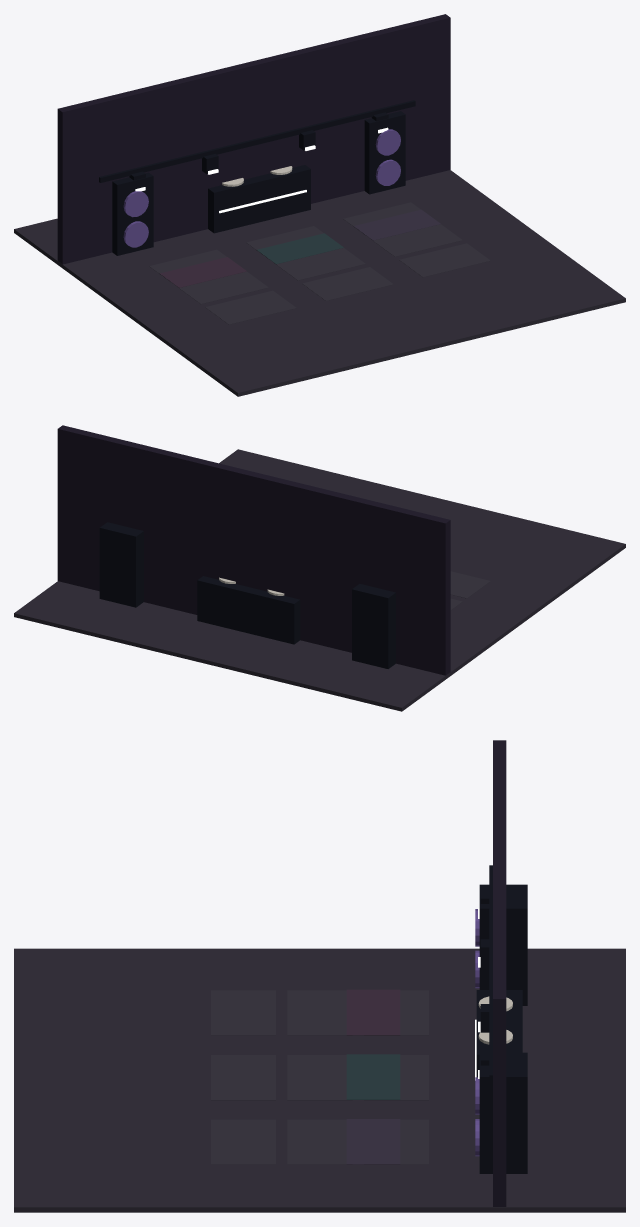
File: room.glb
3 renders of one model, top to bottom at view 1: azimuth 30°, elevation 25°; view 2: azimuth 150°, elevation 25°; view 3: azimuth 270°, elevation 25°, orthographic. The views are drawn at different scales.
Parts seen in each view (by area): view 1: dance-floorGeometry, dj-boothGeometry, large-speakersGeometry, coloured-light-poolsGeometry, overhead-fixturesGeometry; view 2: dj-boothGeometry, dance-floorGeometry, large-speakersGeometry; view 3: dance-floorGeometry, dj-boothGeometry, large-speakersGeometry, coloured-light-poolsGeometry, overhead-fixturesGeometry.
Part boxes in pixels (bbox=[...]): dance-floorGeometry: bbox=[14, 170, 625, 396]; dj-boothGeometry: bbox=[57, 14, 450, 264]; large-speakersGeometry: bbox=[112, 111, 405, 255]; coloured-light-poolsGeometry: bbox=[159, 209, 440, 287]; overhead-fixturesGeometry: bbox=[99, 100, 415, 191]; dj-boothGeometry: bbox=[57, 425, 450, 675]; dance-floorGeometry: bbox=[14, 449, 625, 711]; large-speakersGeometry: bbox=[99, 522, 395, 668]; dance-floorGeometry: bbox=[14, 948, 625, 1212]; dj-boothGeometry: bbox=[475, 740, 522, 1206]; large-speakersGeometry: bbox=[475, 884, 527, 1173]; coloured-light-poolsGeometry: bbox=[346, 989, 400, 1164]; overhead-fixturesGeometry: bbox=[478, 865, 492, 1082].
Bounding box in the file's own units: 16 × 6.16 × 16.
